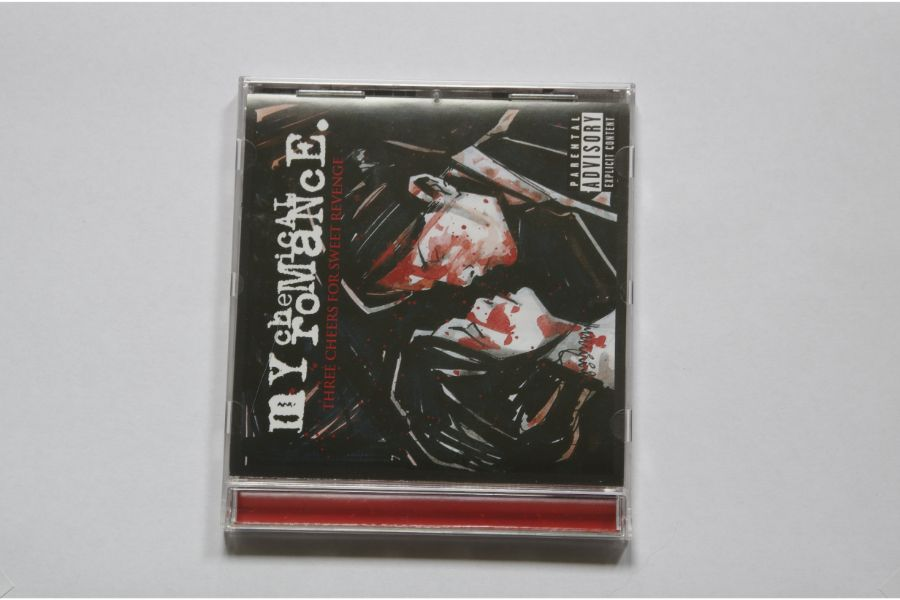album: (223, 70, 635, 545)
